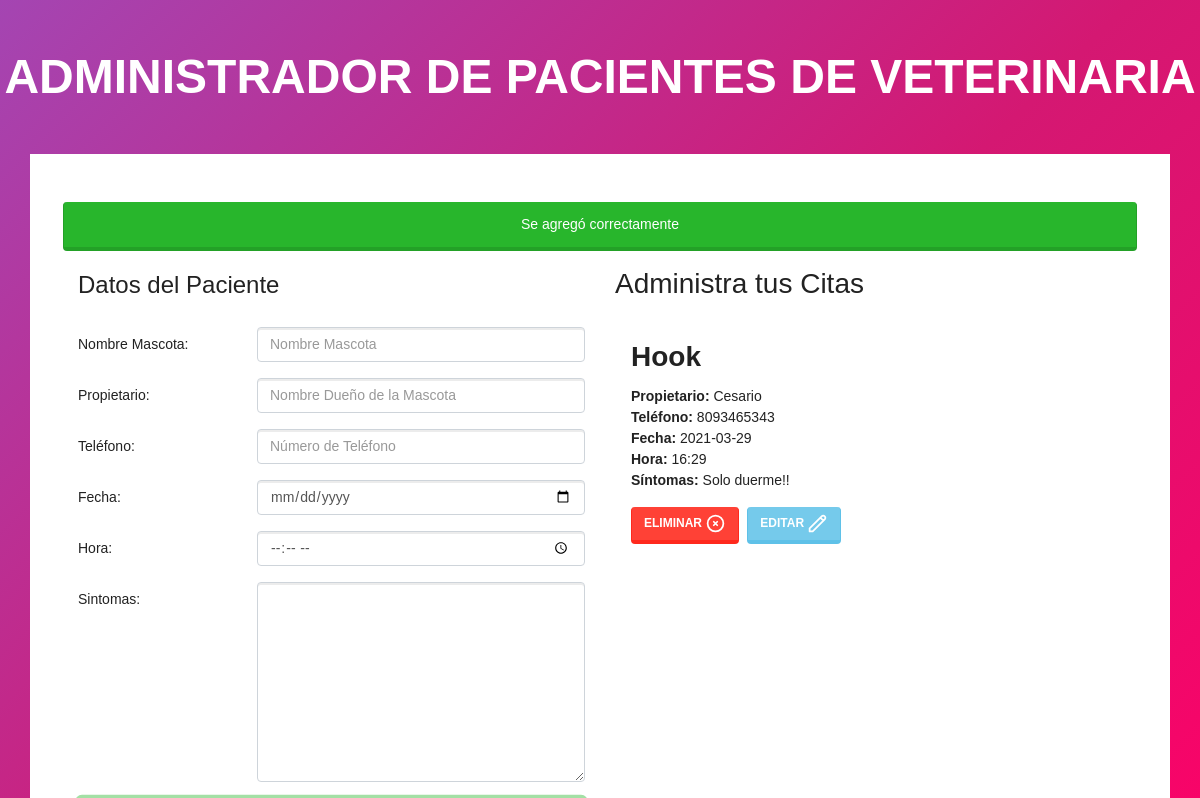
Test: Llena los campos para una nueva cita y la elimina › Eliminar una cita
Click the button with test id "btn-eliminar".
click(685, 526)  # box top-left (631, 507), bottom-right (739, 544)
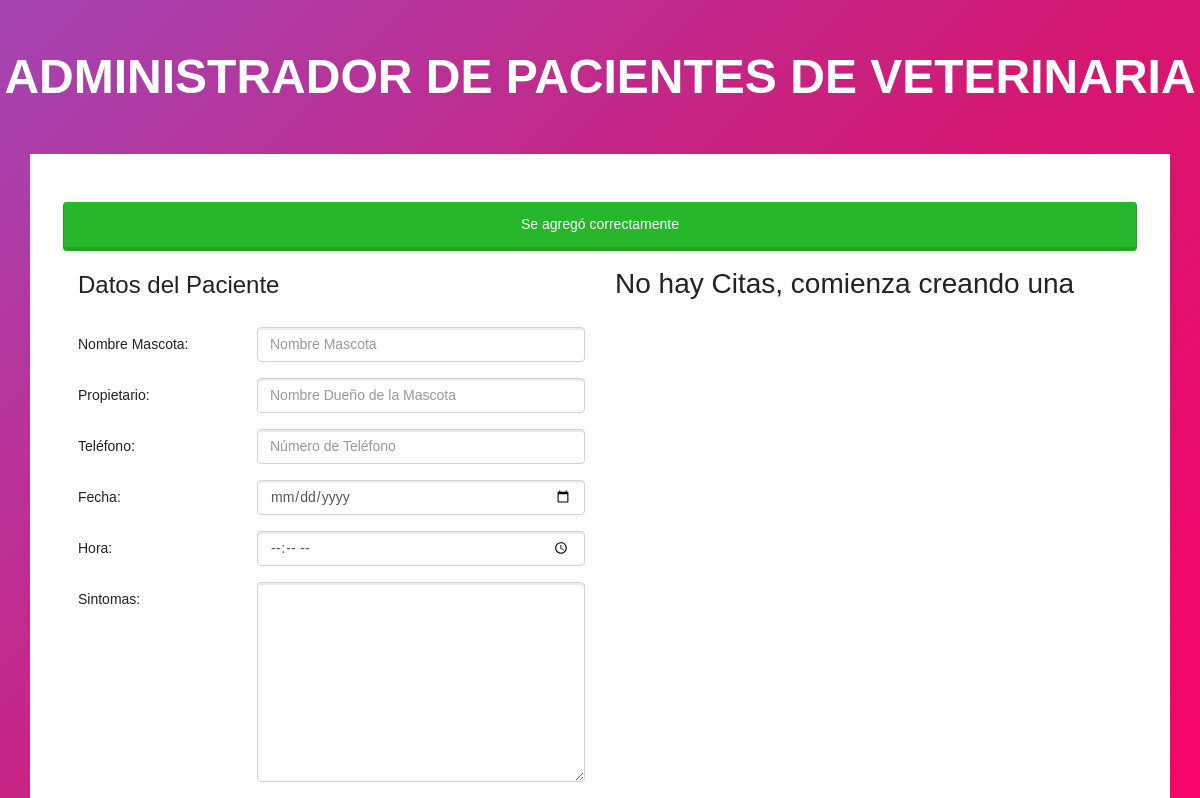
Check: the heading with test id "citas-heading" reads "No hay Citas, comienza creando una", box top-left (615, 267), bottom-right (1122, 301)
